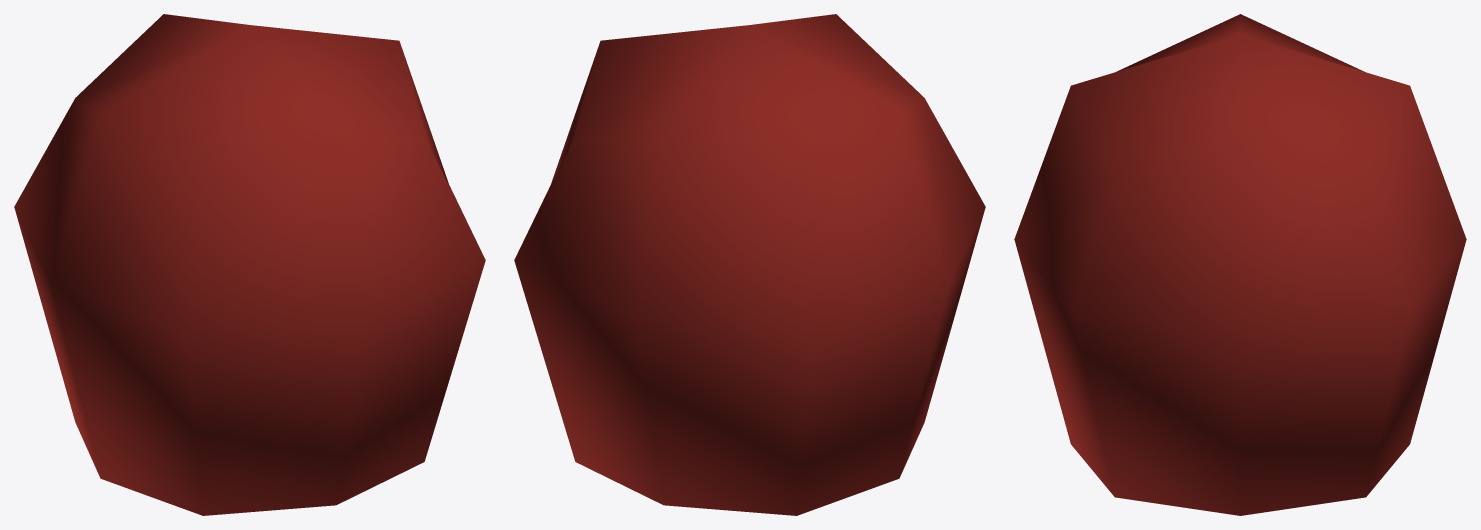
Rendered from Stone_1.obj.
3 renders of one model, left to right at view 1: azimuth 30°, elevation 25°; view 2: azimuth 150°, elevation 25°; view 3: azimuth 270°, elevation 25°, orthographic.
Parts seen in each view (by area): view 1: Cube_Cube.002; view 2: Cube_Cube.002; view 3: Cube_Cube.002.
Part boxes in pixels (x1,y1,x2,y2): Cube_Cube.002: [14, 14, 485, 515]; Cube_Cube.002: [514, 14, 985, 515]; Cube_Cube.002: [1014, 14, 1466, 515].
Bounding box in the file's own units: 2 × 2 × 2.
